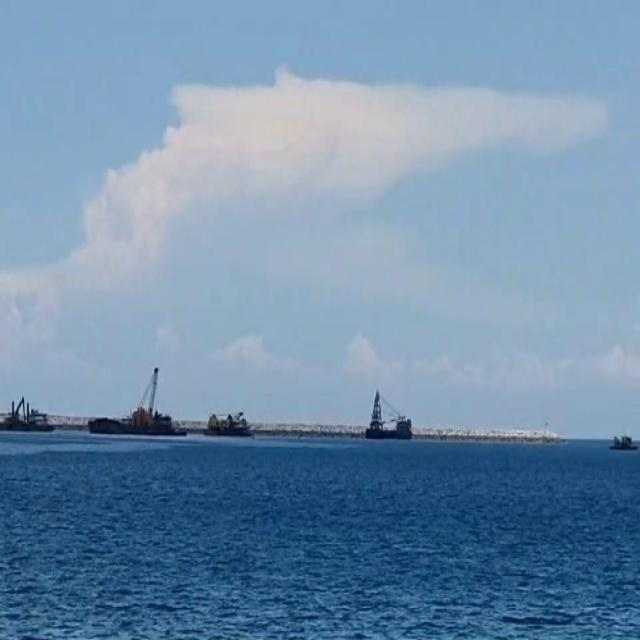civilianship: (89, 371, 192, 468), (1, 369, 60, 452), (205, 392, 260, 459), (359, 392, 417, 450), (606, 433, 640, 472)
